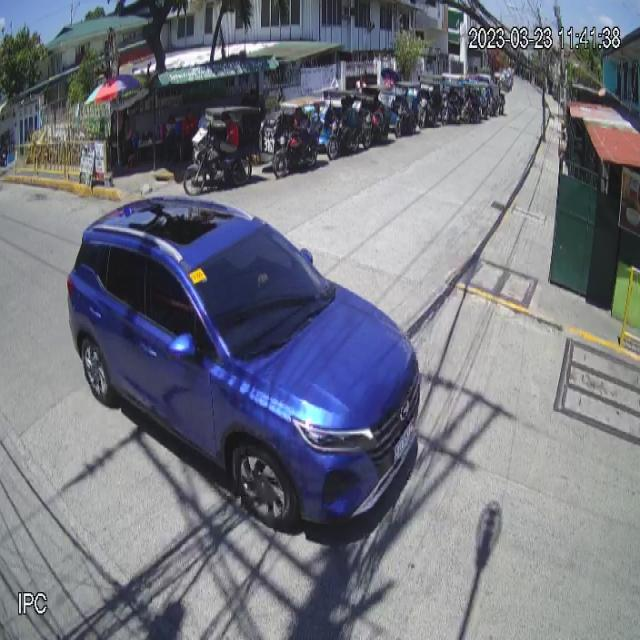Car: (66, 192, 423, 542)
